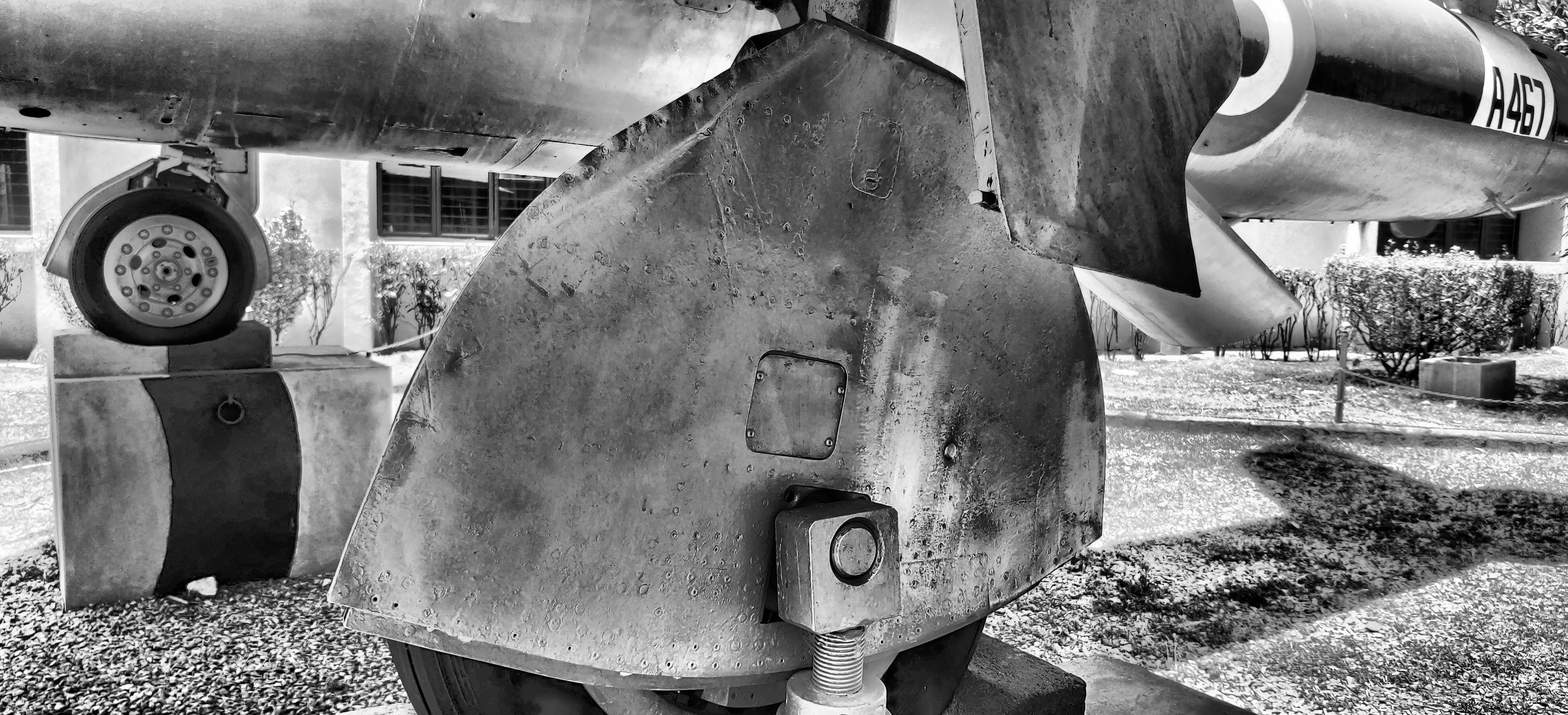dent: (567, 149, 601, 182), (446, 351, 469, 376), (610, 126, 630, 150), (642, 111, 668, 128), (684, 93, 701, 108)
missing-head: (783, 489, 797, 504), (370, 594, 380, 604), (392, 601, 401, 610), (691, 644, 699, 651), (713, 545, 720, 553), (711, 281, 718, 289), (724, 205, 731, 213), (757, 659, 764, 666), (691, 590, 698, 597), (670, 531, 677, 538), (666, 660, 672, 668), (512, 631, 518, 639), (779, 657, 785, 665), (746, 101, 752, 109), (948, 493, 953, 502), (689, 662, 695, 669), (735, 662, 741, 669), (965, 608, 971, 615), (709, 574, 715, 581), (693, 532, 699, 539), (736, 533, 742, 540), (727, 178, 734, 184), (567, 645, 572, 653), (713, 6, 719, 12), (915, 628, 921, 634), (712, 663, 717, 670), (879, 639, 884, 645), (949, 616, 955, 621), (898, 633, 902, 640), (926, 608, 930, 615), (895, 619, 901, 623), (786, 225, 790, 231), (727, 4, 731, 9), (685, 0, 688, 6)
scratch: (424, 361, 434, 410), (525, 278, 549, 296), (397, 418, 429, 428)
